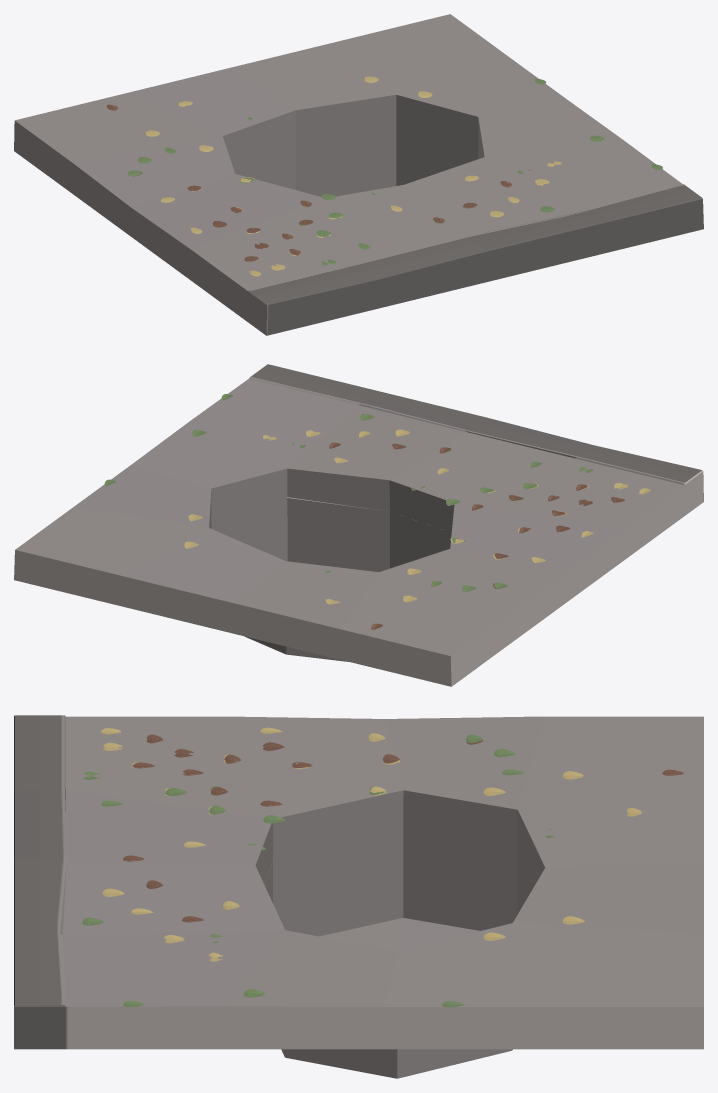
Rendered from Pavement_Hole.fbx.
3 renders of one model, top to bottom at view 1: azimuth 30°, elevation 25°; view 2: azimuth 150°, elevation 25°; view 3: azimuth 270°, elevation 25°, orthographic. The views are drawn at different scales.
Visible parts, largest first — view 1: Pavement_01.001; view 2: Pavement_01.001; view 3: Pavement_01.001.
Part boxes in pixels (x1=…): Pavement_01.001: x1=14, y1=14, x2=703, y2=335; Pavement_01.001: x1=14, y1=364, x2=703, y2=686; Pavement_01.001: x1=14, y1=715, x2=703, y2=1078.
Bounding box in the file's own units: 301 × 63.36 × 300.
